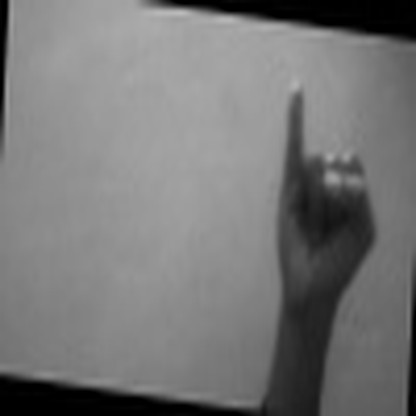i: (268, 70, 388, 325)
